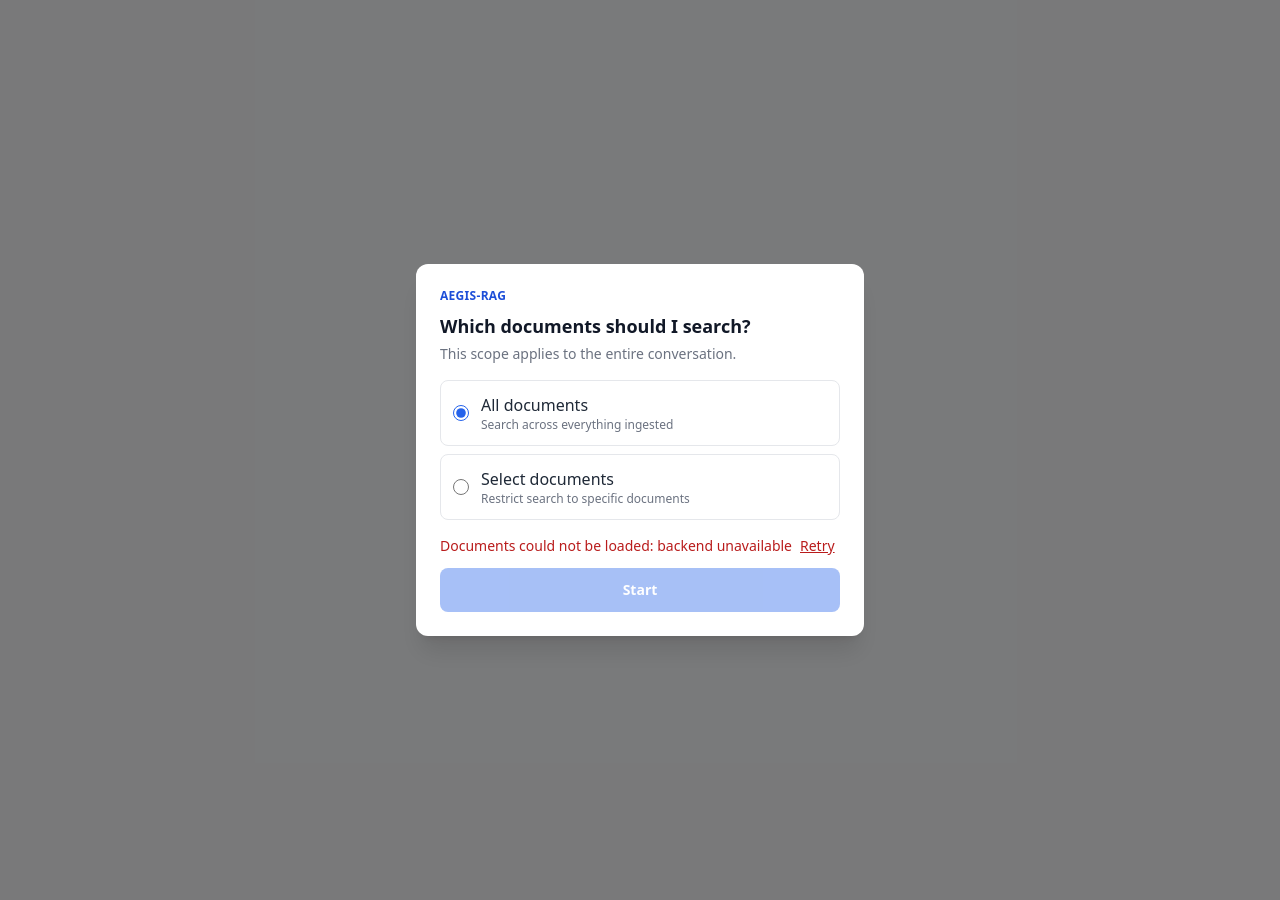
Test: distinguishes empty documents from errors and retries failures
expect the message shows "backend unavailable": met, box [657,536,792,555]
Click the button "Retry": (817, 546) [800,536,835,556]
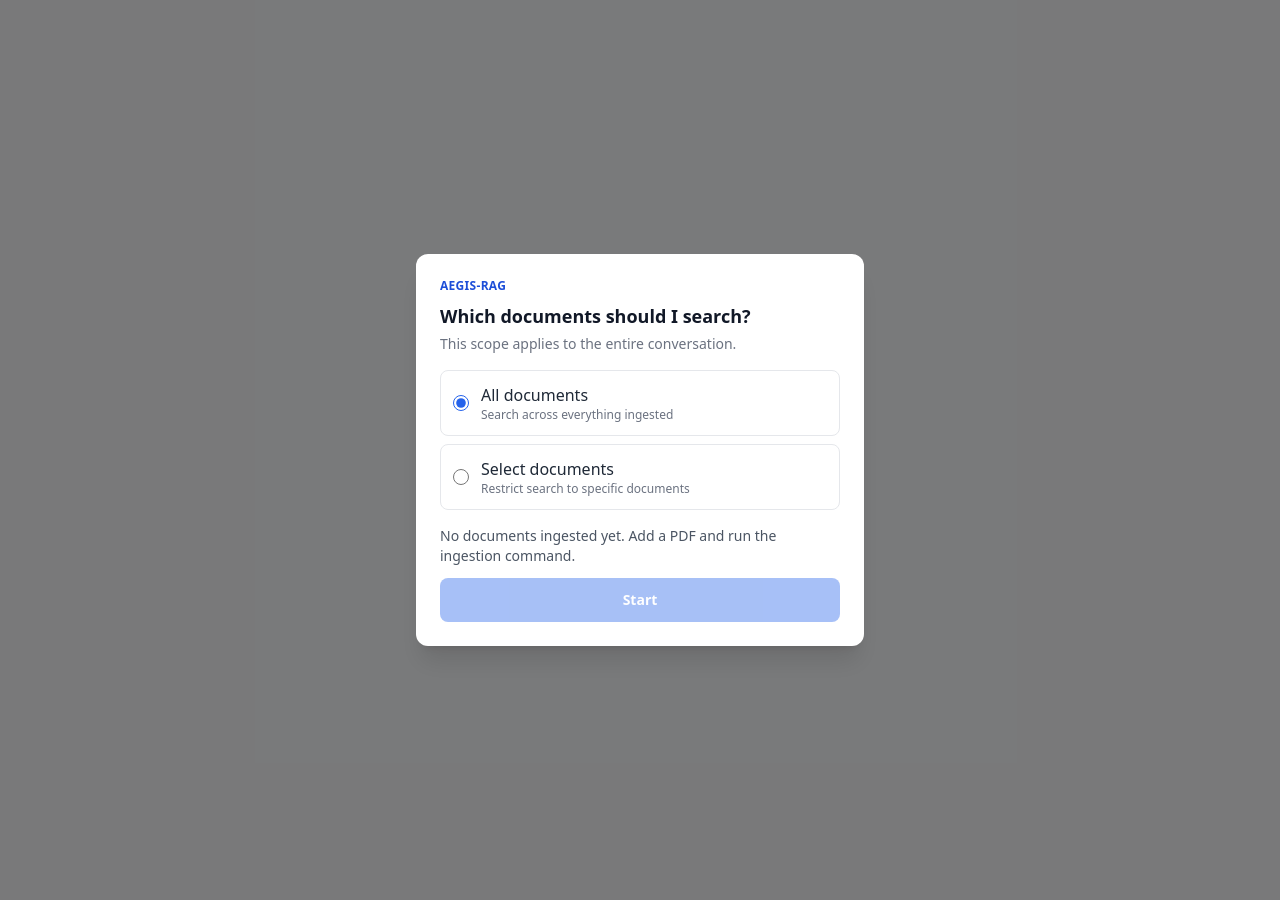
expect the button "Start" is disabled: met, box [440,578,840,622]
expect the text "No documents ingested yet. Add" is shown: met, box [440,526,776,565]
expect the message "Documents could not be loaded: backend unavailable Retry" is gone: met
